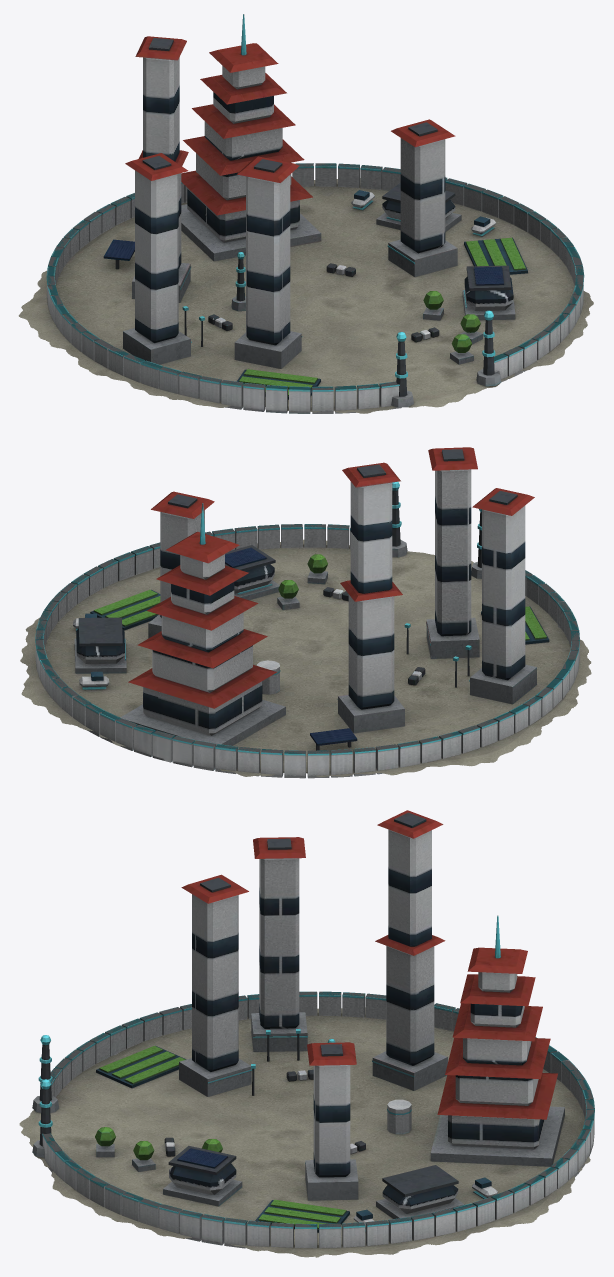
The model's file is future-town-small-a-sinic.glb.
The picture shows the model from 3 angles, top to bottom: view 1: azimuth 30°, elevation 25°; view 2: azimuth 150°, elevation 25°; view 3: azimuth 270°, elevation 25°; orthographic projection. The views are drawn at different scales.
Parts seen in each view (by area): view 1: LOD0; view 2: LOD0; view 3: LOD0.
Part boxes in pixels (bbox=[...]): LOD0: bbox=[18, 14, 593, 413]; LOD0: bbox=[20, 447, 591, 778]; LOD0: bbox=[19, 810, 594, 1257].
Size of what is drawn, in the model's own units: 3.98 by 1.88 by 3.84.
Materials: 3 (3 with a texture image).
